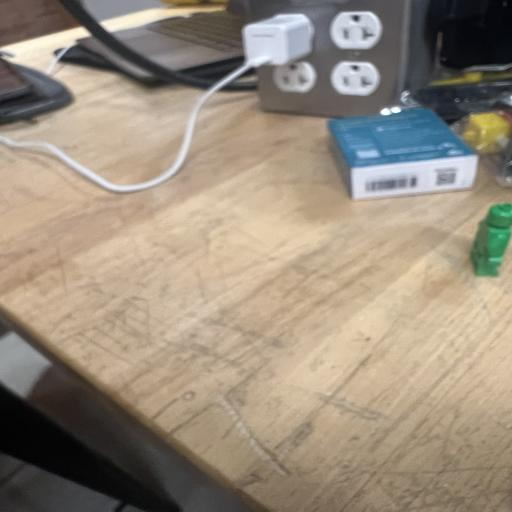green-lego-minifigure-detector: (470, 203, 512, 276)
